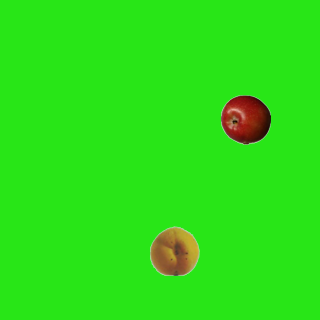Apple Braeburn: (220, 94, 270, 144)
Peach 2: (149, 225, 199, 275)
